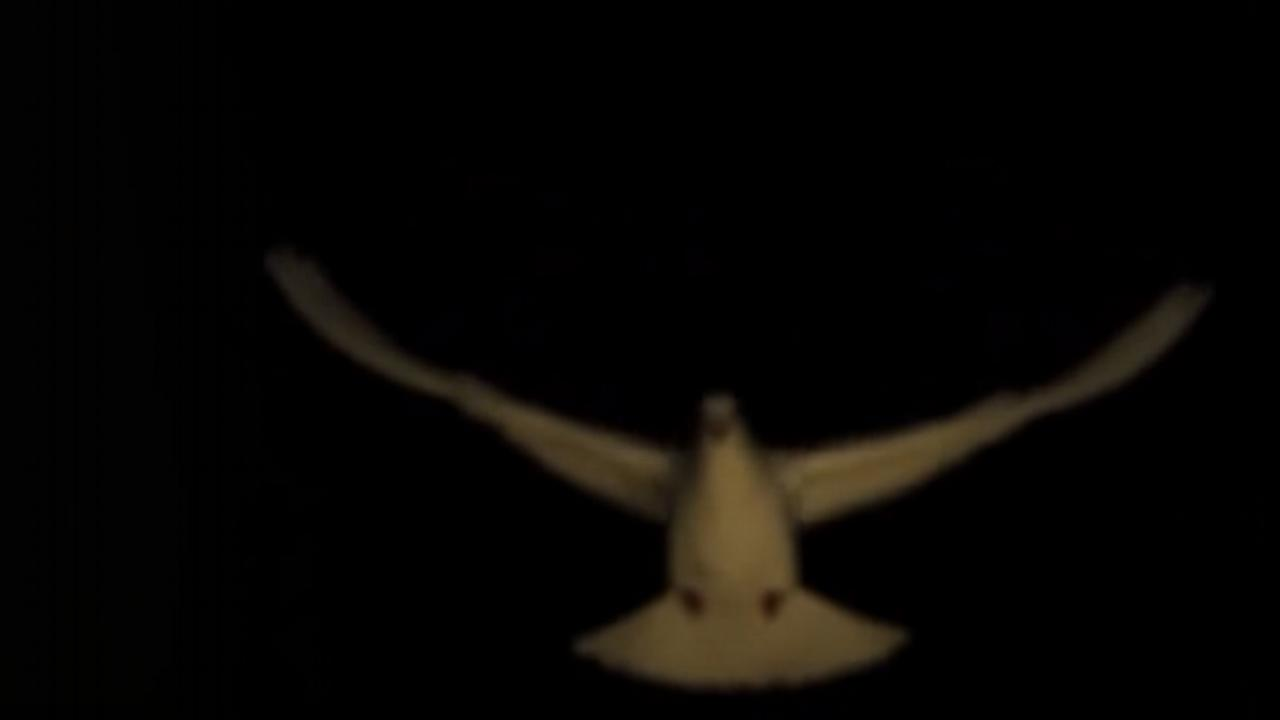Bird: (244, 229, 1224, 702)
